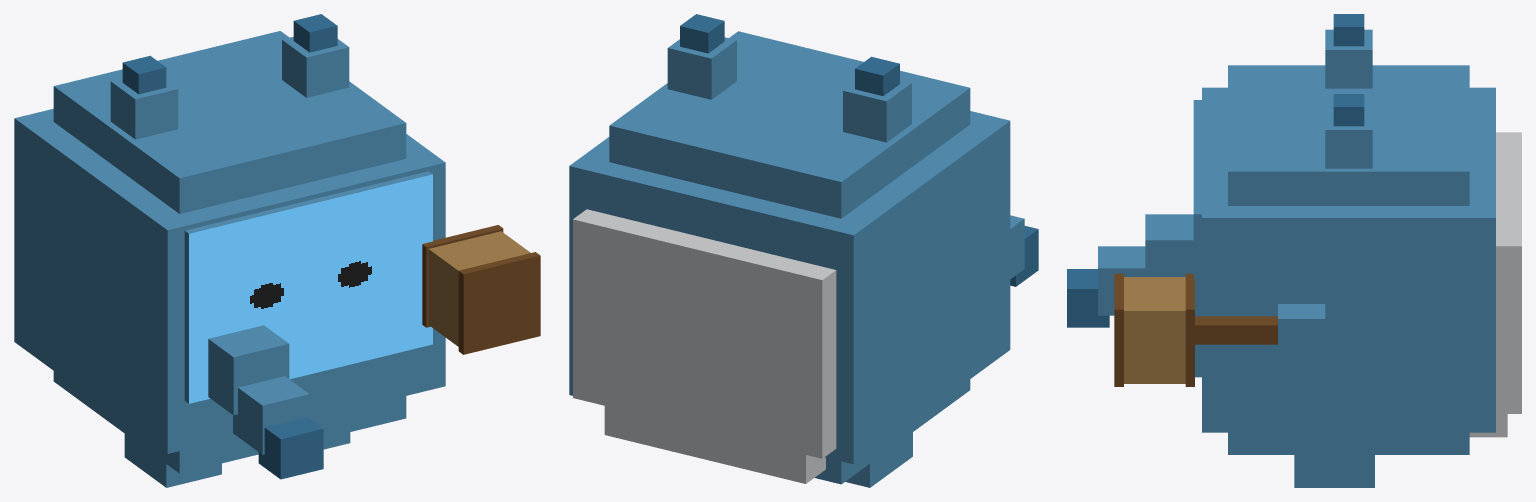
File: yumemin.glb
3 views of the same model, side by side, from view 1: azimuth 30°, elevation 25°; view 2: azimuth 150°, elevation 25°; view 3: azimuth 270°, elevation 25° (orthographic). The views are drawn at different scales.
Parts seen in each view (by area): view 1: YumeminVoxel_Root_MobileMesh, VoxelRig_ArmPrimary_MobileMesh, VoxelRig_Locomotion_00_MobileMesh; view 2: YumeminVoxel_Root_MobileMesh, VoxelRig_Locomotion_00_MobileMesh; view 3: YumeminVoxel_Root_MobileMesh, VoxelRig_ArmPrimary_MobileMesh, VoxelRig_Locomotion_00_MobileMesh.
Part boxes in pixels (x1=…): YumeminVoxel_Root_MobileMesh: x1=14, y1=14, x2=445, y2=487; VoxelRig_ArmPrimary_MobileMesh: x1=422, y1=225, x2=540, y2=354; VoxelRig_Locomotion_00_MobileMesh: x1=208, y1=325, x2=323, y2=479; YumeminVoxel_Root_MobileMesh: x1=569, y1=14, x2=1010, y2=487; VoxelRig_Locomotion_00_MobileMesh: x1=1010, y1=215, x2=1038, y2=286; YumeminVoxel_Root_MobileMesh: x1=1193, y1=14, x2=1521, y2=487; VoxelRig_ArmPrimary_MobileMesh: x1=1114, y1=273, x2=1325, y2=386; VoxelRig_Locomotion_00_MobileMesh: x1=1067, y1=214, x2=1193, y2=327.
Size of the model in its own units: 1.53 by 1.79 by 1.92.
2 materials, 1 textured.
